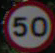Speed limit: (1, 0, 52, 48)
